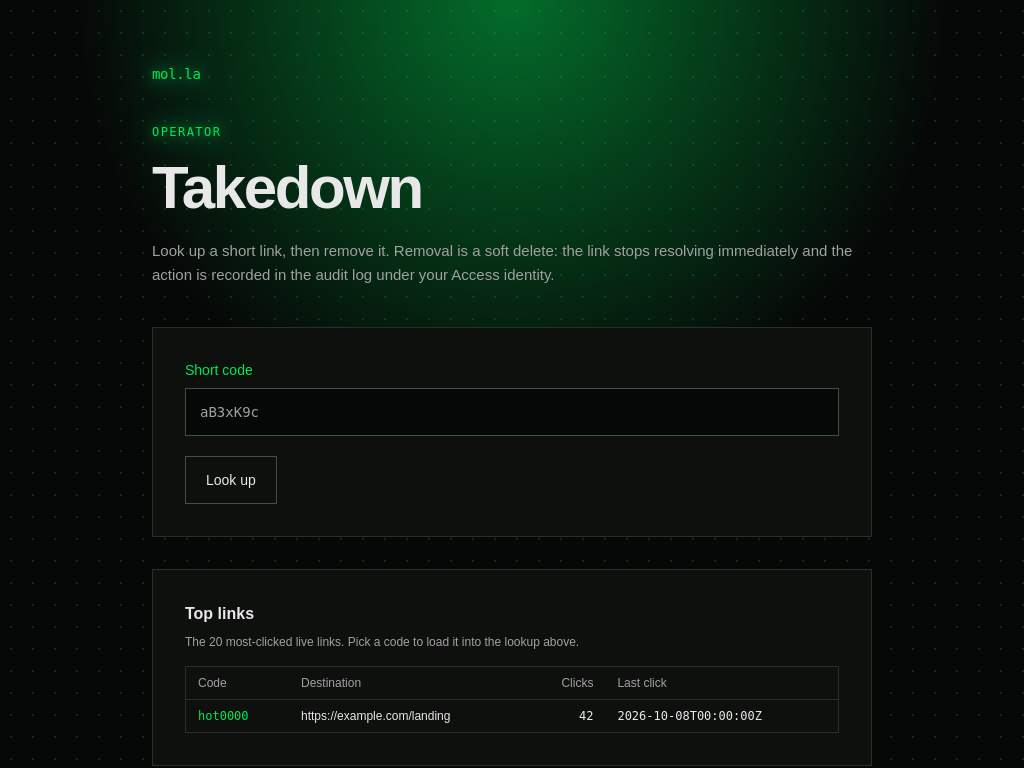
Test: AdminPage › lists top links and loads a picked code into the lookup
Check: the row "hot0000" shows "https://example.com/landing", box left=301, top=709, right=450, bottom=723
Check: the row "hot0000" shows "42", box left=579, top=709, right=594, bottom=723
Click the button "hot0000": (223, 716) left=198, top=708, right=249, bottom=724
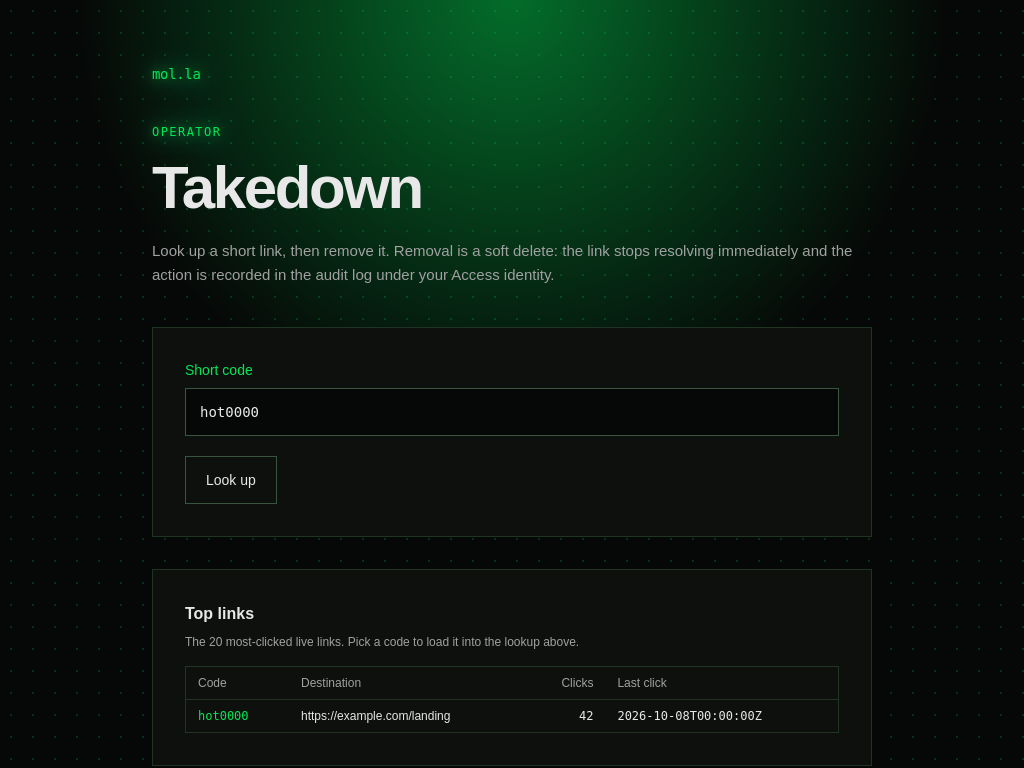
Check: the field labelled "Short code" holds "hot0000", box left=185, top=388, right=839, bottom=436
